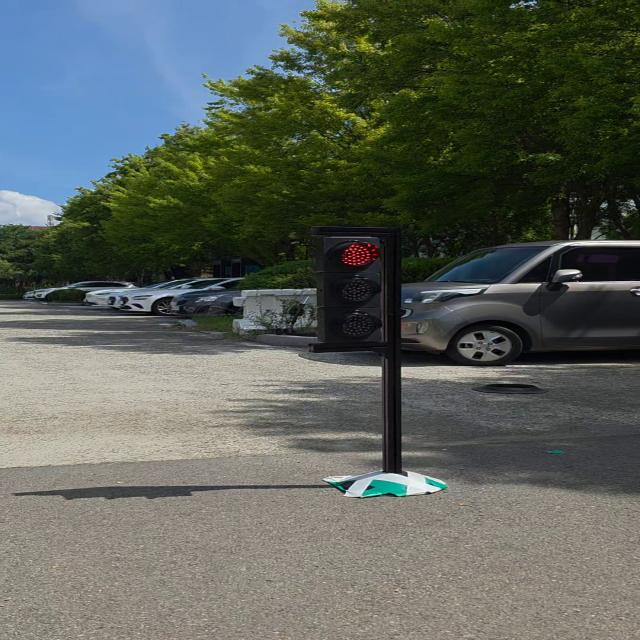red: (310, 235, 401, 345)
